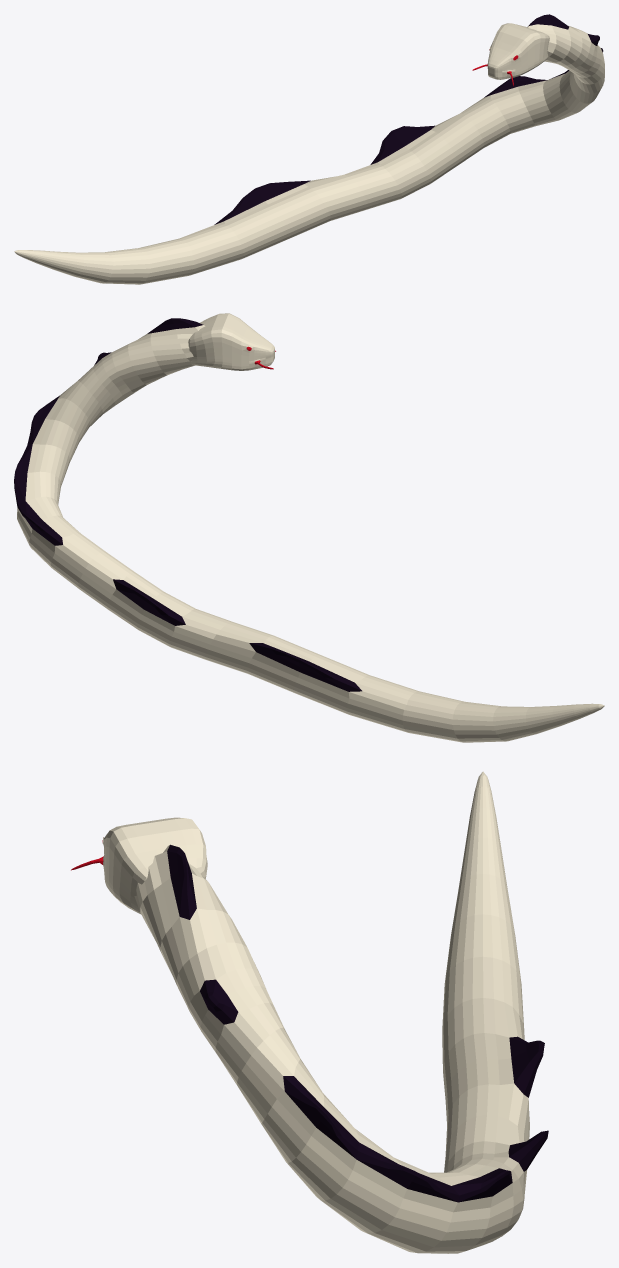
The model's file is benimaru.fbx.
The picture shows the model from 3 angles, top to bottom: view 1: azimuth 30°, elevation 25°; view 2: azimuth 150°, elevation 25°; view 3: azimuth 270°, elevation 25°; orthographic projection. The views are drawn at different scales.
Visible parts, largest first — view 1: Cylinder; view 2: Cylinder; view 3: Cylinder.
Boxes of the visible parts, <box> form: Cylinder: <box>14,14,604,284</box>; Cylinder: <box>14,313,604,742</box>; Cylinder: <box>71,771,548,1253</box>.
Size of the model in its own units: 623 by 265 by 235.
